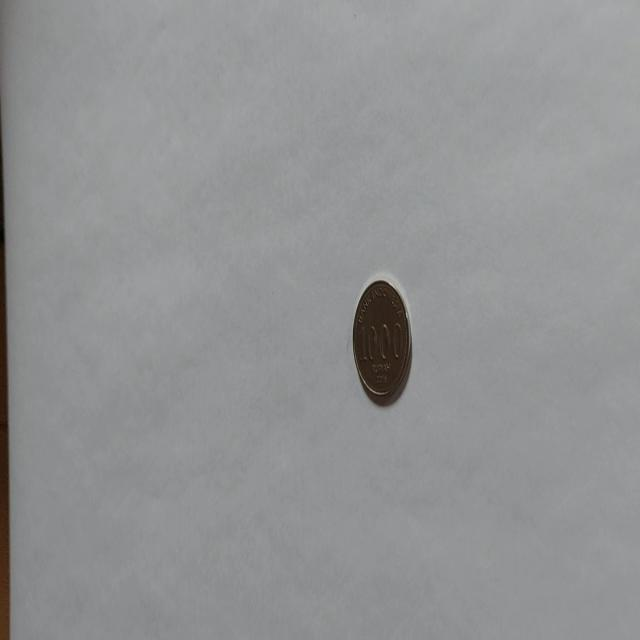seribu rupiah koin: (351, 276, 412, 406)
